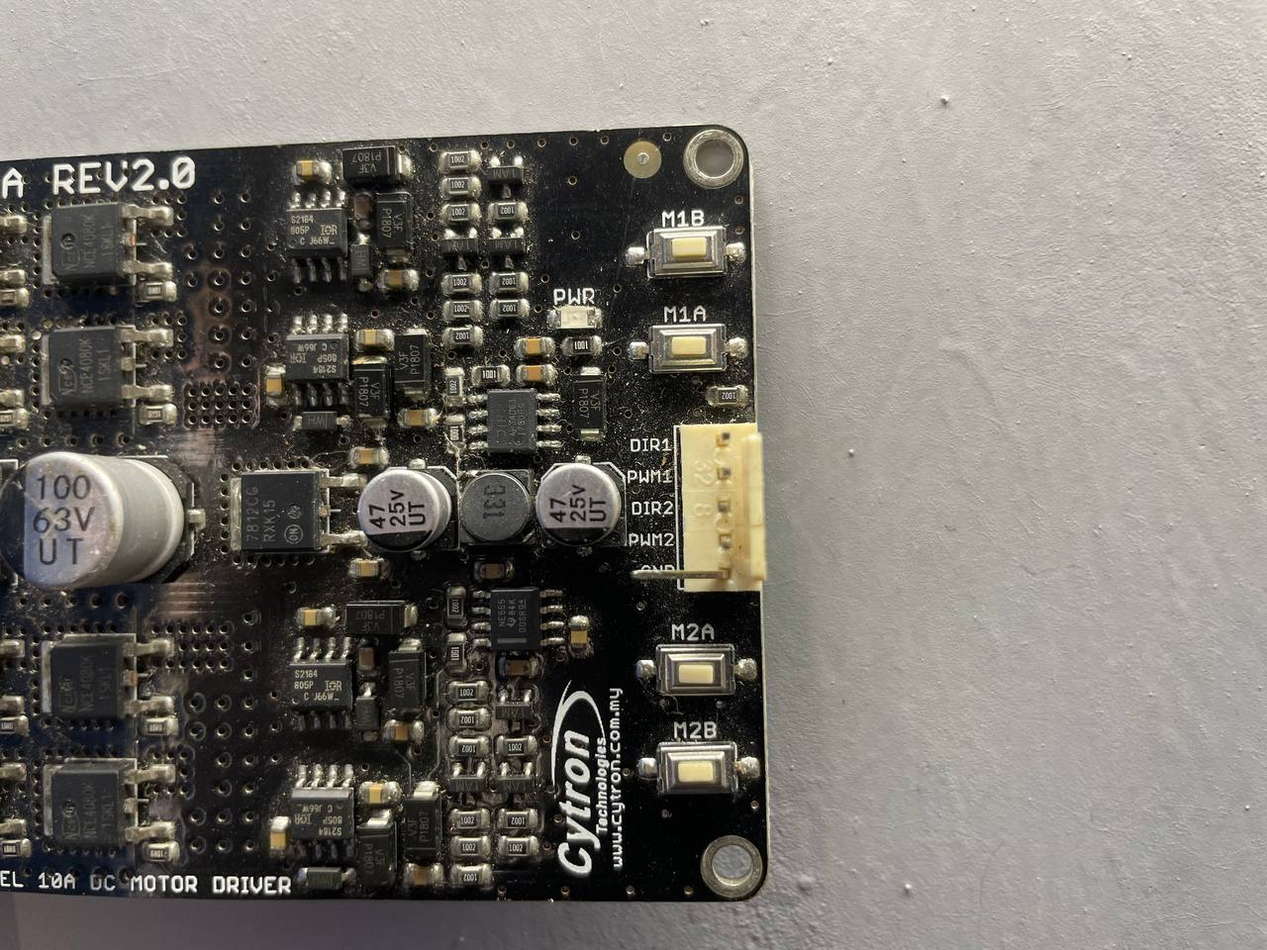bent_pin: (623, 549, 735, 596)
